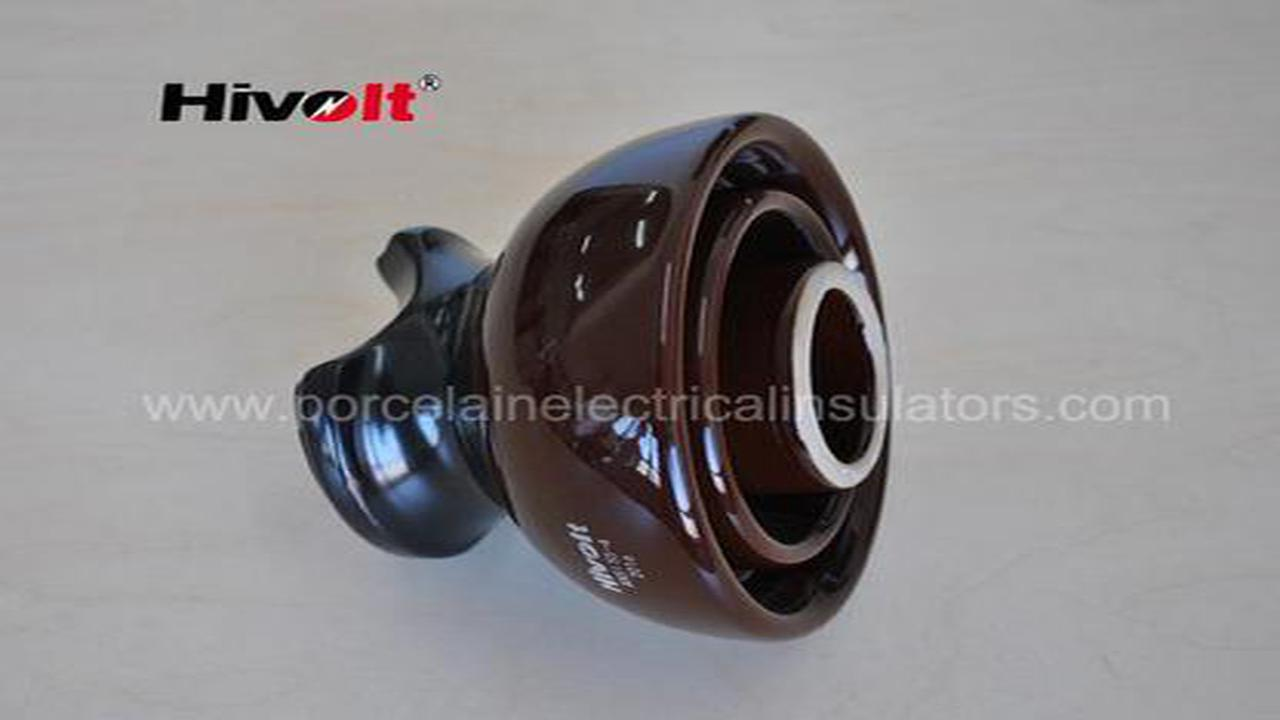insulator_pin: (284, 101, 914, 656)
